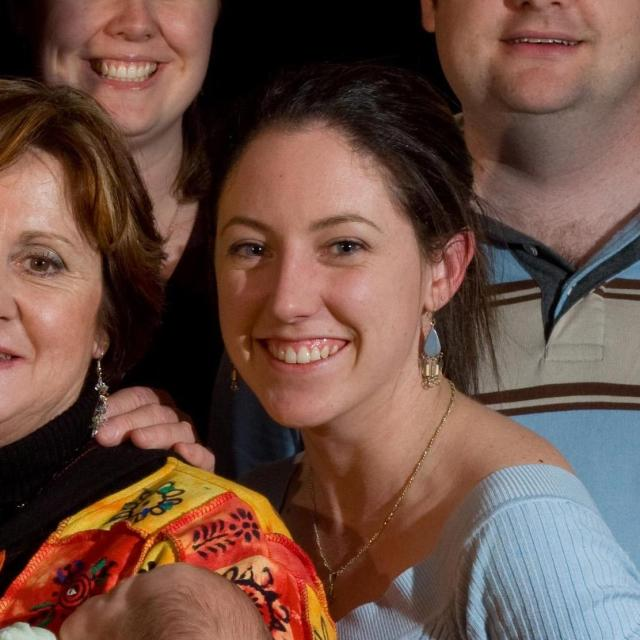no-glass: (223, 233, 368, 269)
